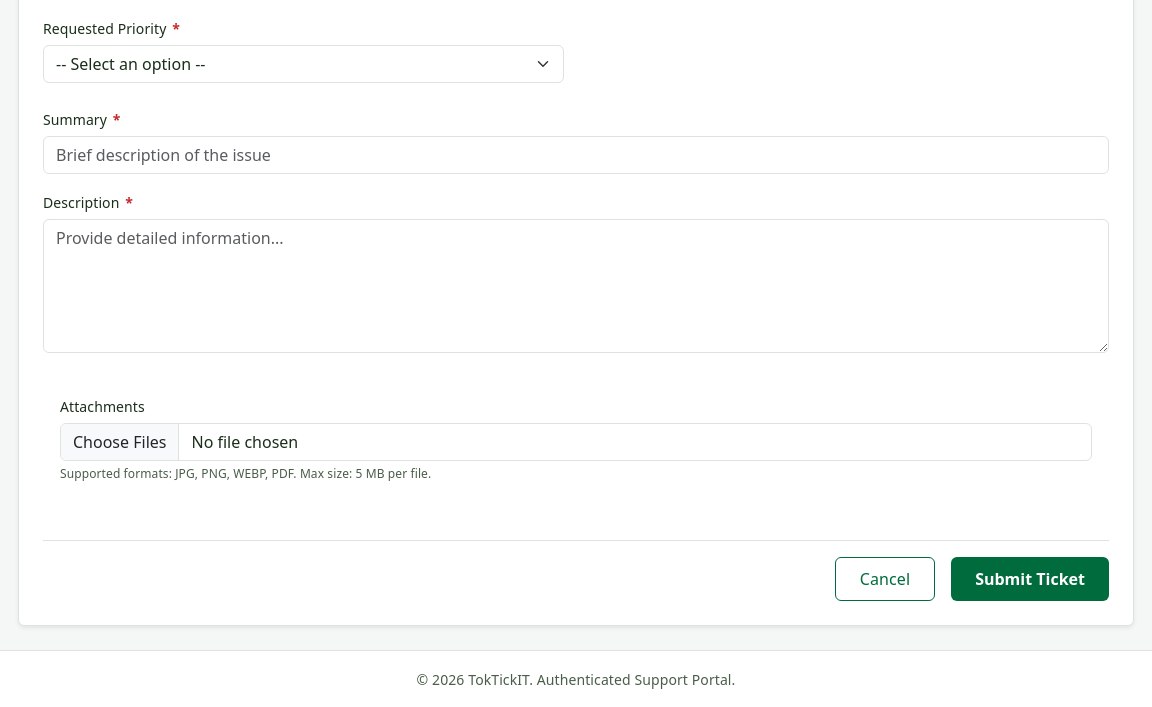
Test: Create Ticket Feature › shows frontend validation errors on empty submission
(page scrolled)
Check: the field labelled "Summary *" is shown, box [43,136,1109,174]
What coordinates should you click on to do the following:
click the button "Submit Ticket"
I would click on:
 (1030, 579)
Its box is [951,557,1109,601].
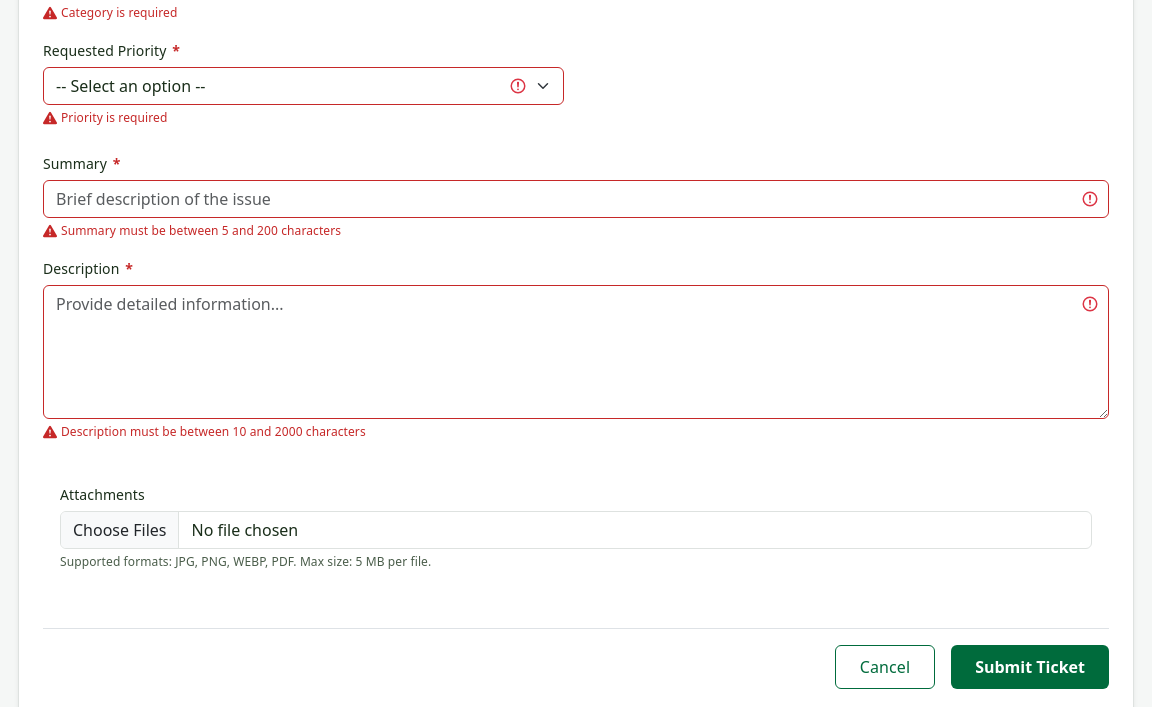
Check: the text "Category is required" is shown, box [43,4,178,21]
Check: the text "Priority is required" is shown, box [43,109,167,126]
Check: the text "Summary must be between 5 and 200 characters" is shown, box [43,222,341,239]
